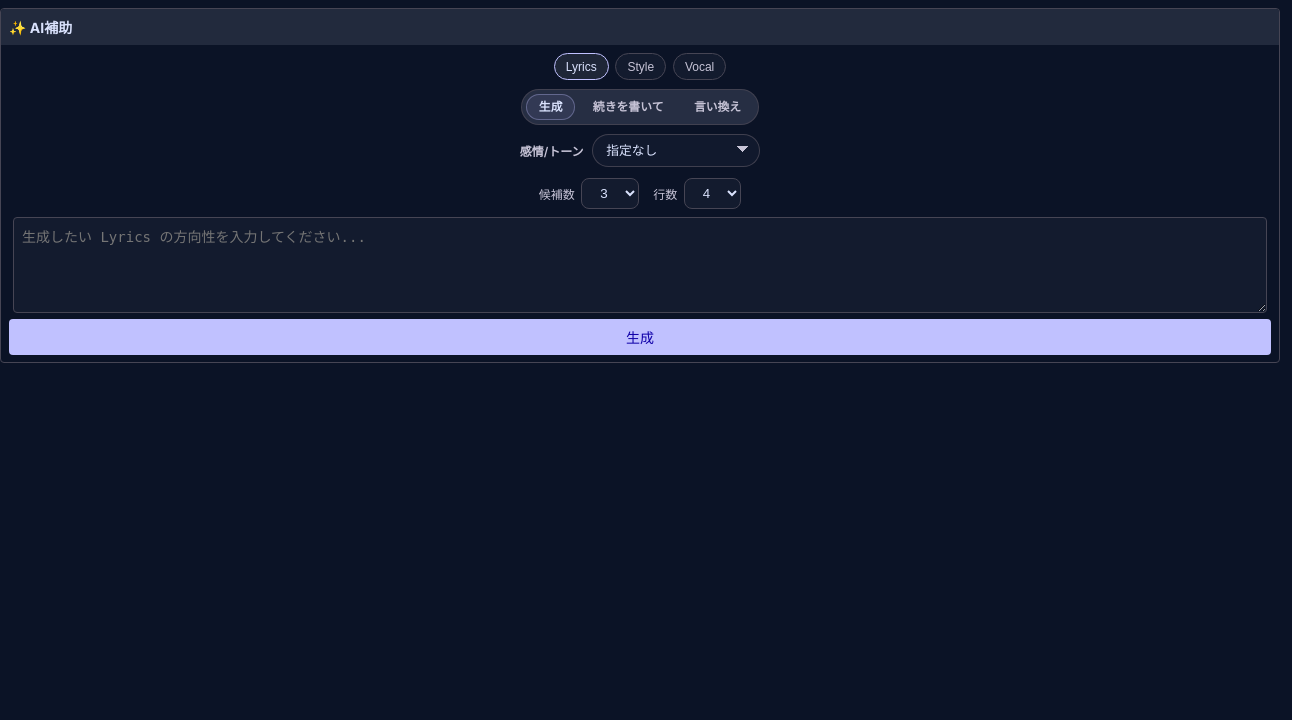
it: LLMAssistPanel › candidate preview › should truncate long candidate text
Click the button "生成" at (640, 337), box [9,319,1271,355]
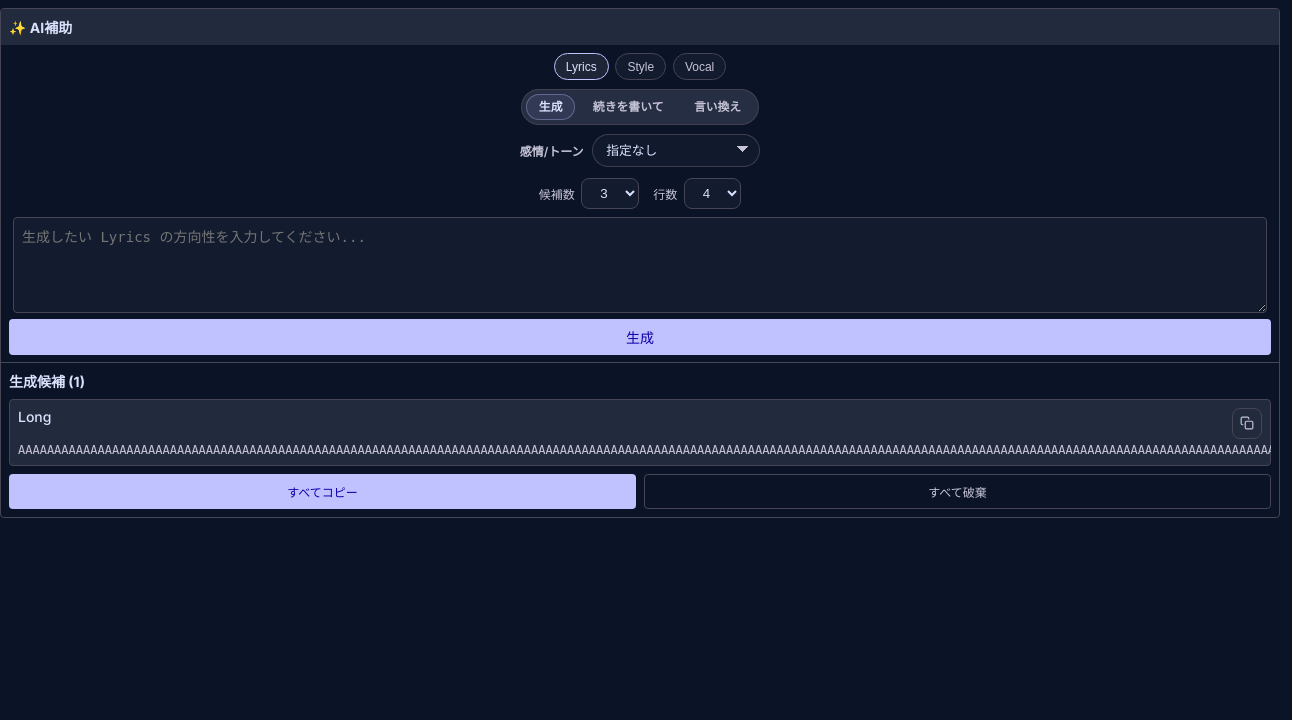
Expected: the text "AAA..." is shown, [18,443,1262,457]
